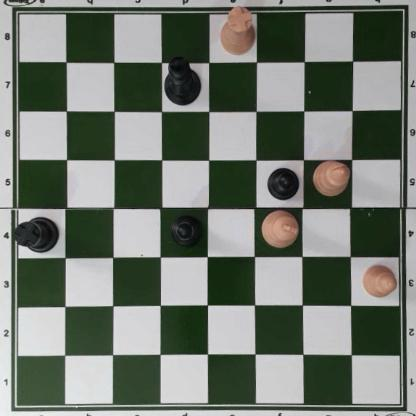black-king: (164, 57, 201, 107)
black-pawn: (267, 165, 299, 200), (170, 213, 201, 247)
black-rook: (15, 216, 60, 253)
white-bishop: (312, 159, 351, 197)
white-king: (262, 208, 300, 249)
white-pawn: (360, 263, 397, 299)
white-rook: (219, 5, 256, 57)
